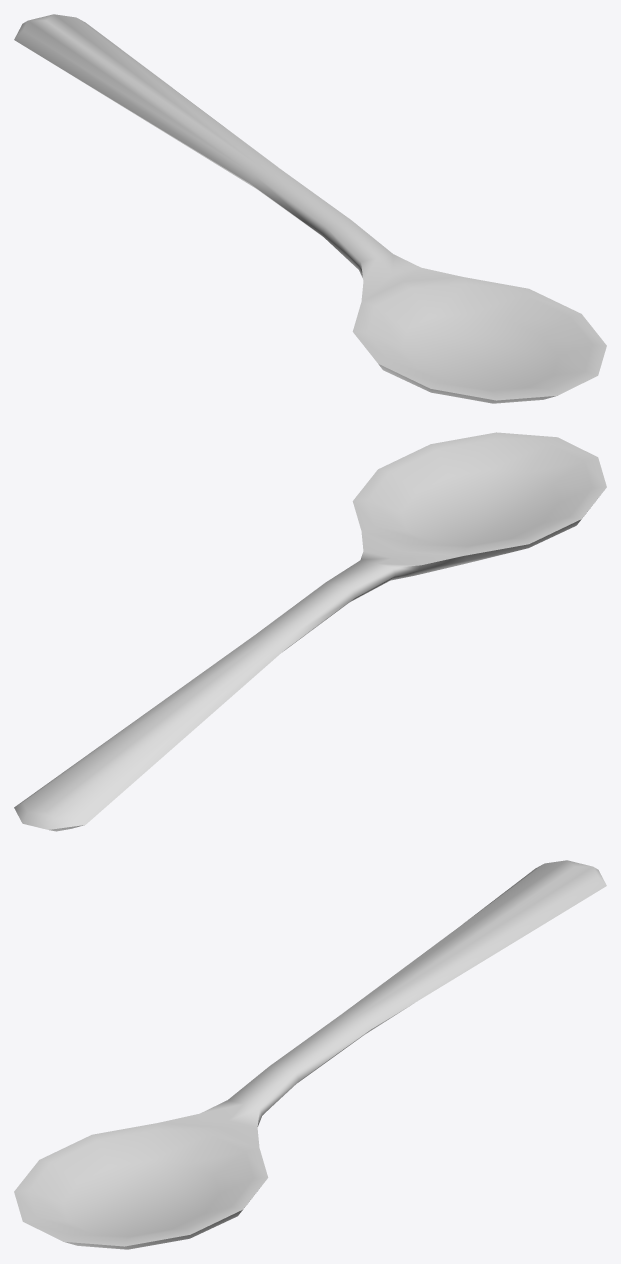
Rendered from TeaSpoon_01.fbx.
3 renders of one model, top to bottom at view 1: azimuth 30°, elevation 25°; view 2: azimuth 150°, elevation 25°; view 3: azimuth 330°, elevation 25°, orthographic.
Visible parts, largest first — view 1: TeaSpoon_01; view 2: TeaSpoon_01; view 3: TeaSpoon_01.
Boxes of the visible parts, x1=… form: TeaSpoon_01: x1=14, y1=14, x2=606, y2=403; TeaSpoon_01: x1=14, y1=432, x2=606, y2=831; TeaSpoon_01: x1=14, y1=860, x2=606, y2=1249.
Size of the model in its own units: 0.0349 by 0.00635 by 0.1548.
